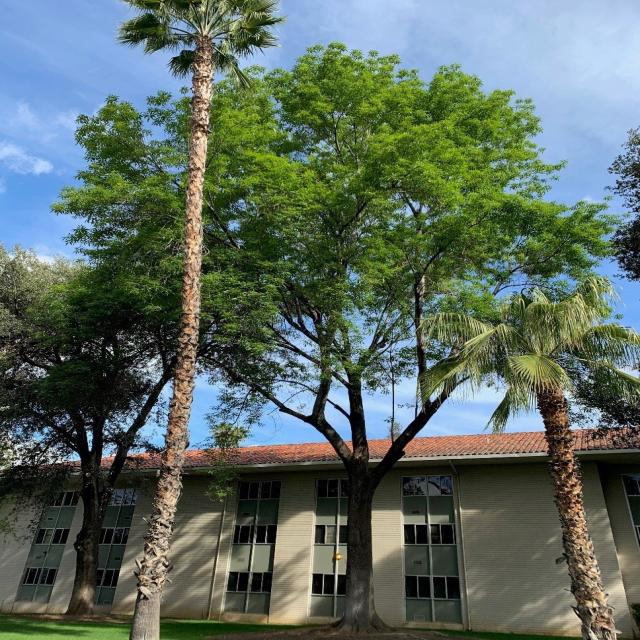Fraxinus latifolia: (43, 36, 630, 632), (0, 244, 230, 625)
